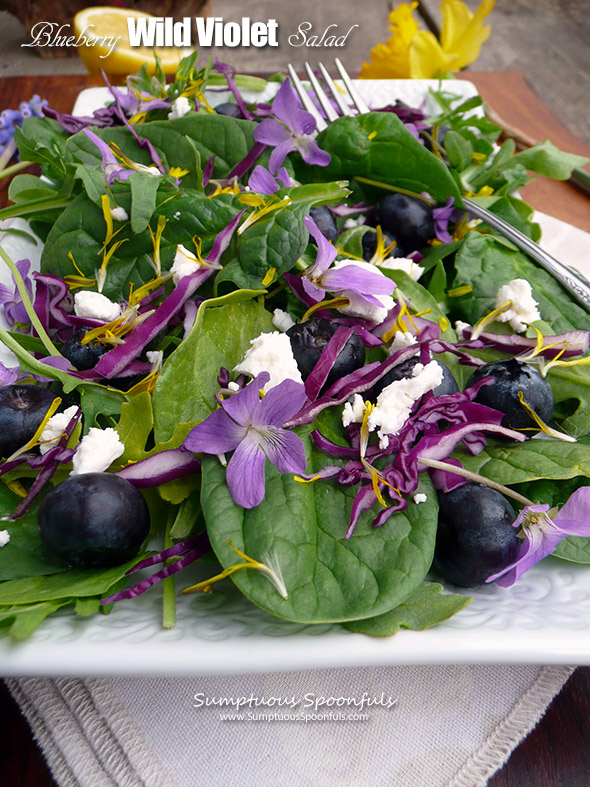violet: (181, 369, 310, 503), (310, 260, 397, 310)
